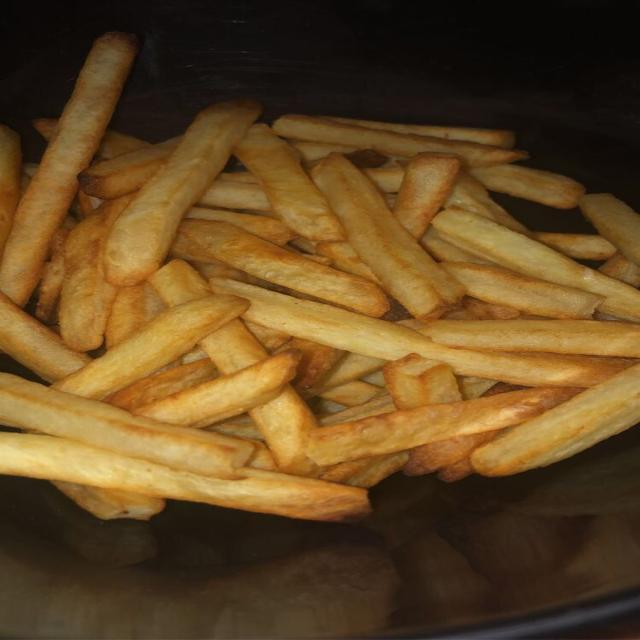potato fries: (0, 34, 639, 521), (210, 279, 631, 386), (0, 33, 136, 306), (0, 434, 369, 520), (106, 101, 261, 285), (0, 374, 252, 477), (313, 154, 463, 318), (433, 208, 639, 320), (308, 388, 580, 465), (55, 296, 247, 399), (181, 221, 388, 316), (471, 366, 639, 475), (273, 115, 527, 166), (132, 350, 300, 427), (234, 125, 344, 241), (58, 198, 128, 351), (443, 262, 603, 319), (421, 320, 639, 357), (0, 294, 92, 381), (79, 139, 181, 199), (250, 386, 317, 473), (326, 117, 514, 148), (109, 357, 217, 410), (394, 154, 460, 238), (447, 172, 531, 235), (471, 165, 584, 209), (383, 354, 461, 409), (53, 481, 165, 519), (384, 355, 462, 409), (580, 194, 639, 265), (186, 207, 295, 245), (105, 283, 166, 348), (303, 353, 384, 397), (35, 228, 69, 324), (283, 338, 344, 388), (0, 125, 21, 256), (420, 227, 492, 265), (316, 242, 379, 283), (320, 395, 395, 426), (534, 232, 616, 260), (343, 452, 408, 487), (198, 180, 270, 211), (289, 140, 361, 165), (321, 381, 387, 406), (96, 130, 150, 159), (452, 296, 520, 319), (599, 254, 639, 287)
